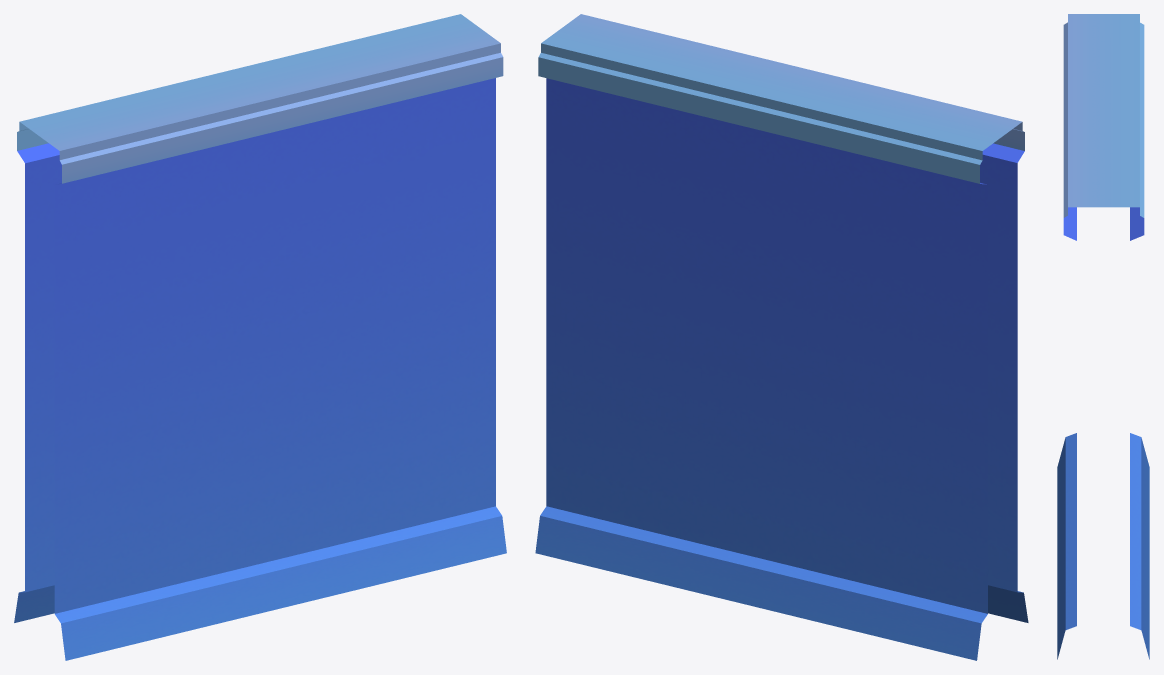
The model's file is chengqiang_3.FBX.
3 renders of one model, left to right at view 1: azimuth 30°, elevation 25°; view 2: azimuth 150°, elevation 25°; view 3: azimuth 270°, elevation 25°, orthographic. The views are drawn at different scales.
Parts seen in each view (by area): view 1: chengqiang_3; view 2: chengqiang_3; view 3: chengqiang_3.
Boxes of the visible parts, x1,y1,x2,y2 form: chengqiang_3: [14, 14, 506, 660]; chengqiang_3: [535, 14, 1028, 660]; chengqiang_3: [1057, 14, 1149, 659].
Bounding box in the file's own units: 447 × 490 × 90.47.
